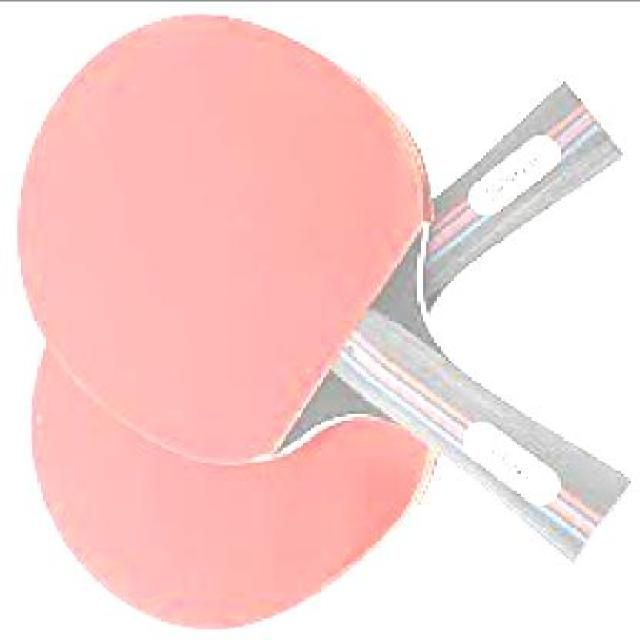table_tennis_racket: (15, 14, 635, 635)
